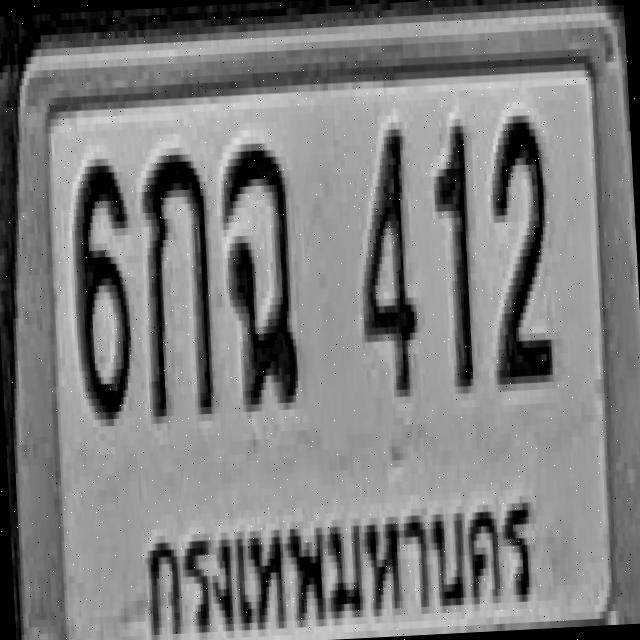1: (431, 122, 479, 391)
10GorGai: (137, 143, 218, 421)
18ChorChing: (219, 138, 302, 410)
2: (483, 108, 556, 384)
4: (352, 122, 422, 398)
6: (70, 154, 136, 424)
Bangkok: (134, 488, 539, 640)
